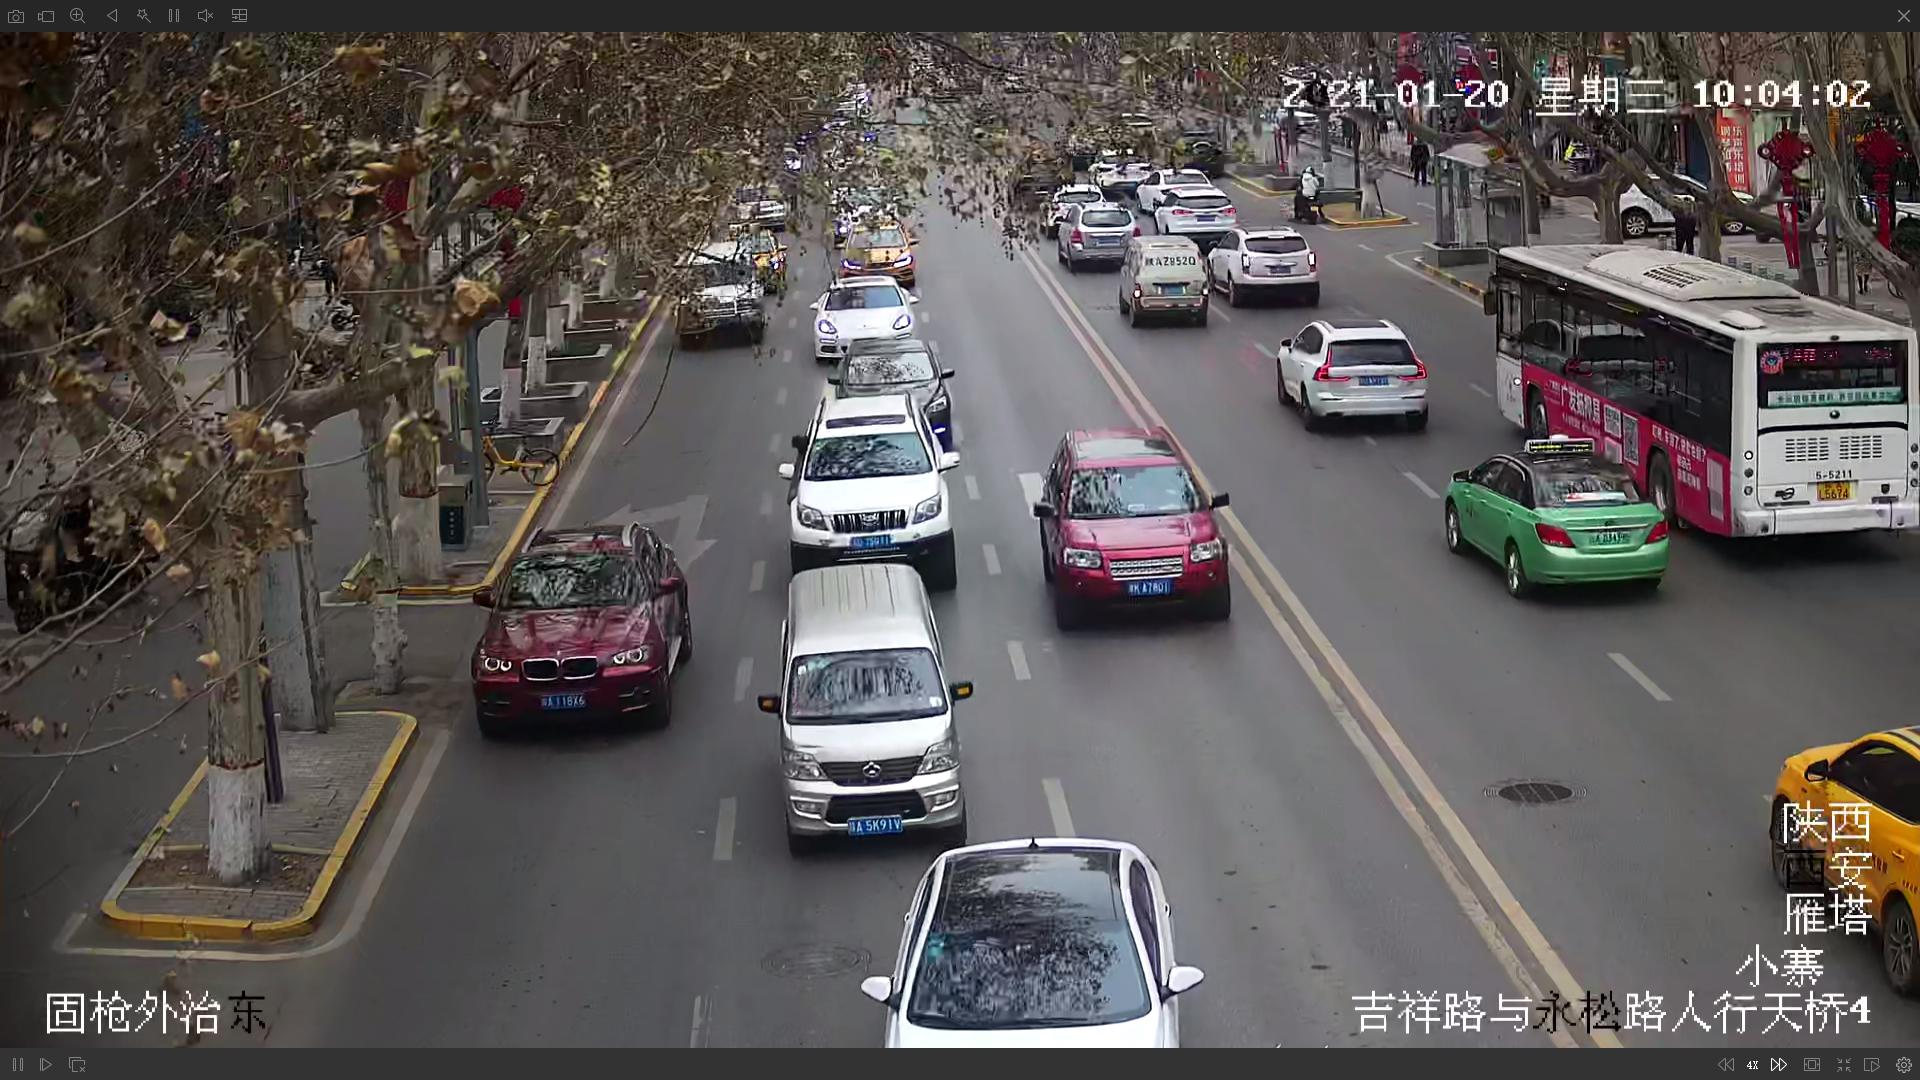dark-red: (1040, 433, 1240, 632), (480, 529, 679, 723)
silver-gray: (761, 566, 969, 833)
white: (775, 402, 952, 564)
